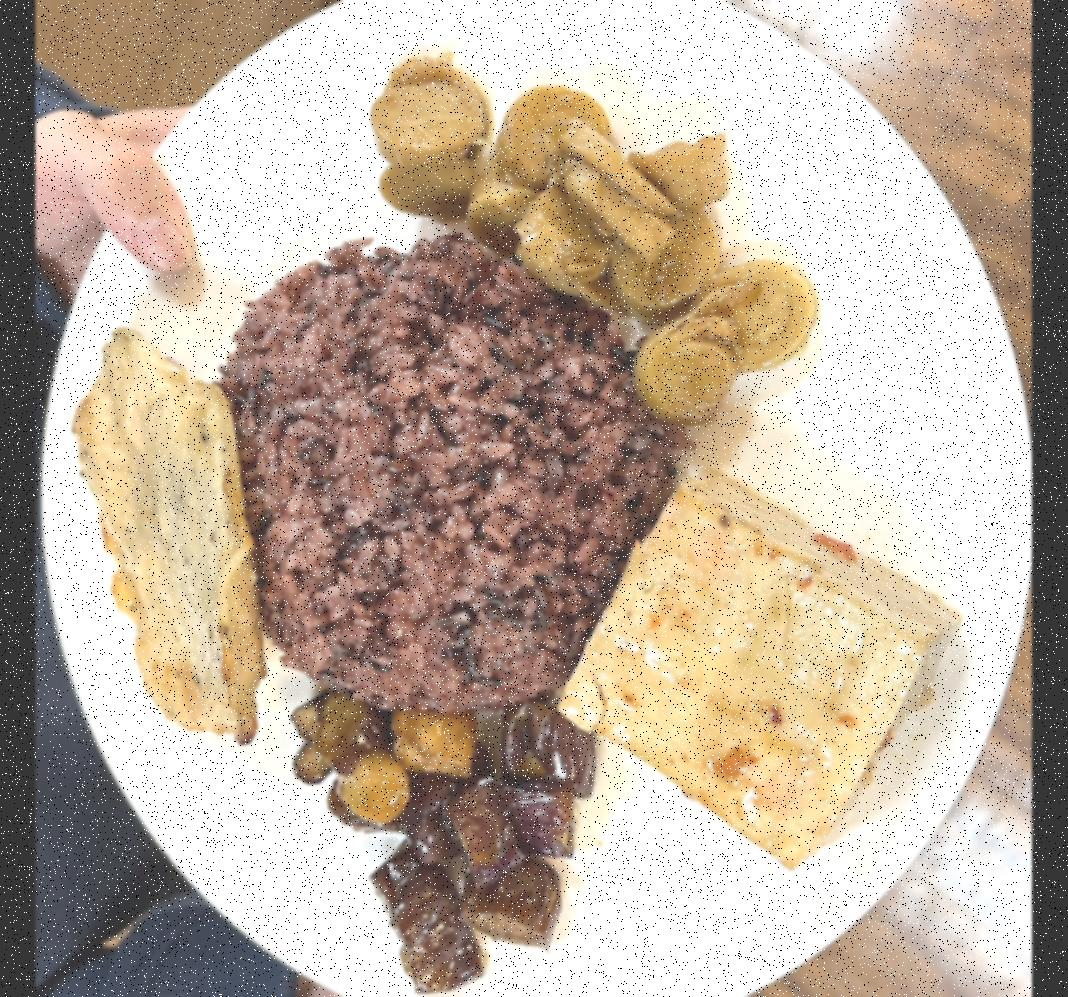big fried chicken leg: (47, 0, 1032, 997)
braised fish: (222, 234, 668, 708)
braised fish fillet: (372, 46, 818, 428), (550, 456, 961, 868), (284, 679, 600, 997)
braised pork: (69, 319, 266, 743)
